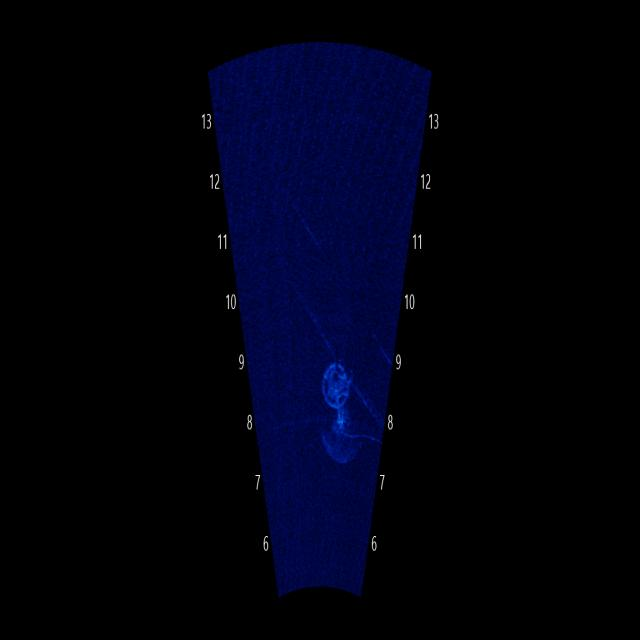circle: (313, 346, 364, 422)
